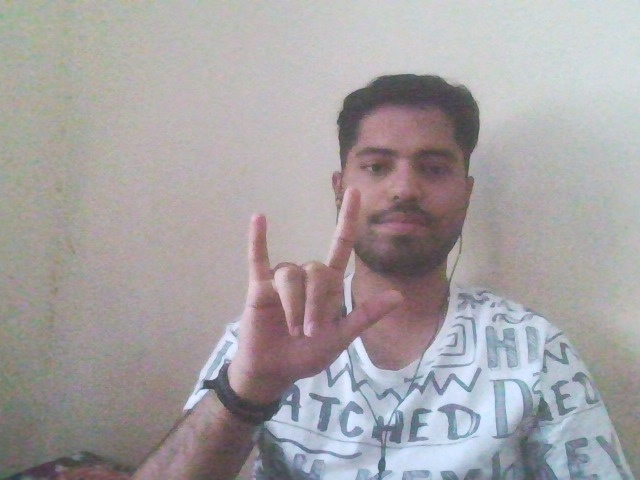IloveYou: (207, 180, 425, 386)
